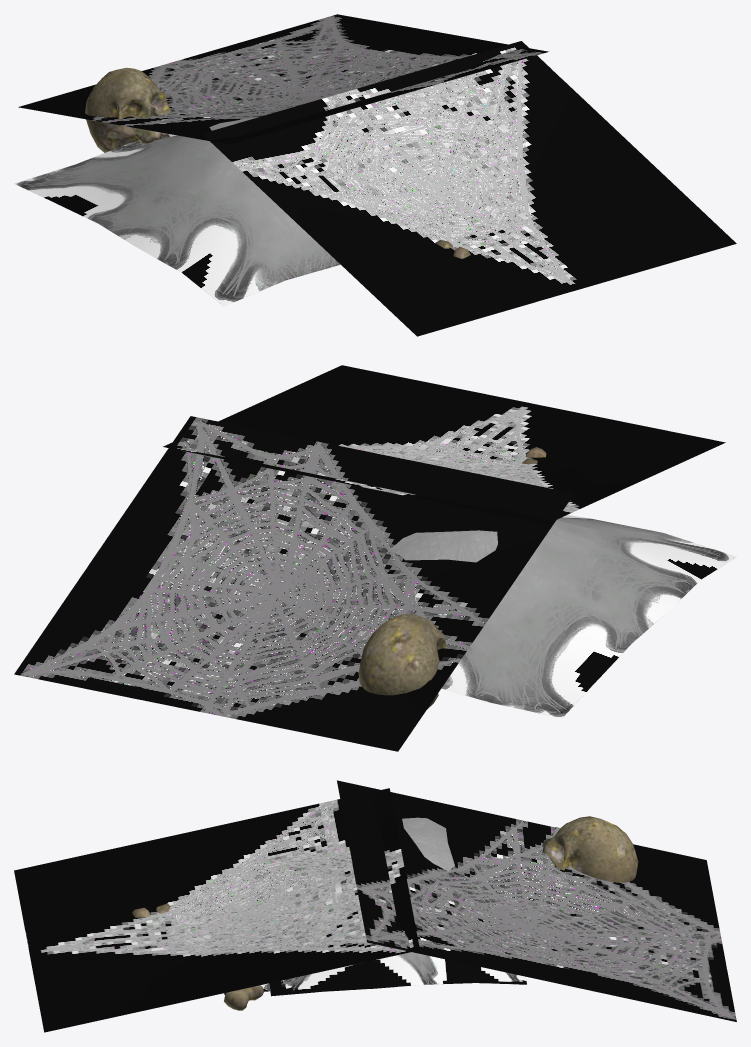
The model's file is SpiderWebNest_05-transformed.glb.
3 views of the same model, one above another, from view 1: azimuth 30°, elevation 25°; view 2: azimuth 150°, elevation 25°; view 3: azimuth 270°, elevation 25° (orthographic). The views are drawn at different scales.
Visible parts, largest first — view 1: default; view 2: default; view 3: default.
Part boxes in pixels (x1=…): default: x1=14, y1=14, x2=736, y2=336; default: x1=14, y1=365, x2=736, y2=751; default: x1=14, y1=780, x2=736, y2=1032.
Bounding box in the file's own units: 3.4 × 0.7881 × 4.65.
5 materials, 5 textured.
